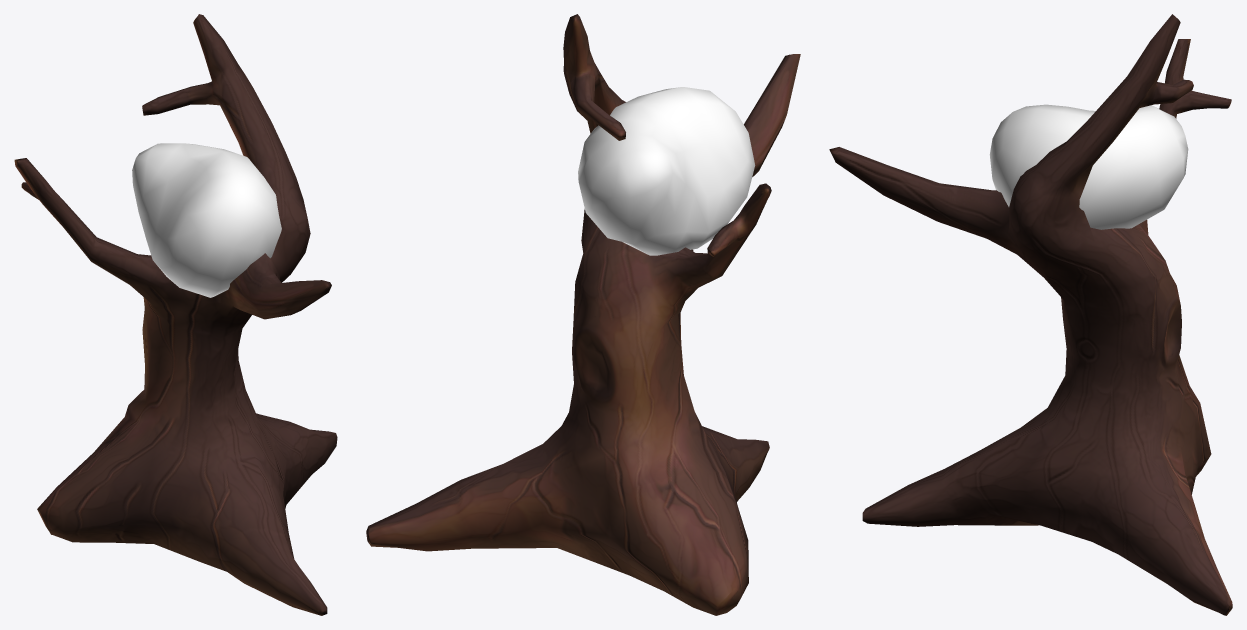
The model's file is tree2.fbx.
3 renders of one model, left to right at view 1: azimuth 30°, elevation 25°; view 2: azimuth 150°, elevation 25°; view 3: azimuth 270°, elevation 25°, orthographic. The views are drawn at different scales.
Parts seen in each view (by area): view 1: polySurface51; view 2: polySurface51; view 3: polySurface51.
Part boxes in pixels (<box>): polySurface51: <box>14,14,337,615</box>; polySurface51: <box>366,14,800,615</box>; polySurface51: <box>829,14,1232,615</box>.
Size of the model in its own units: 783 by 1094 by 761.
